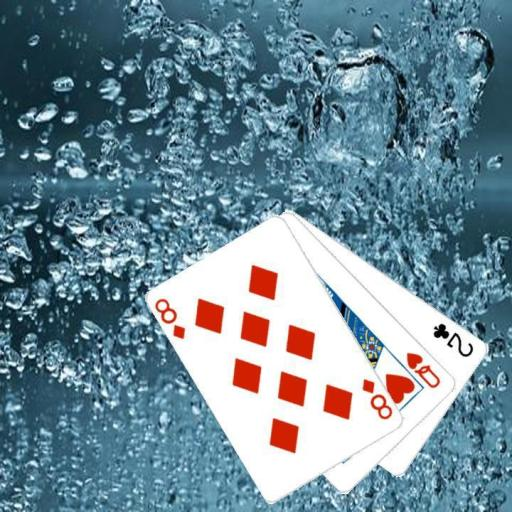card-corner: (430, 319, 476, 359), (151, 294, 188, 342), (359, 376, 395, 422), (404, 348, 442, 390)
